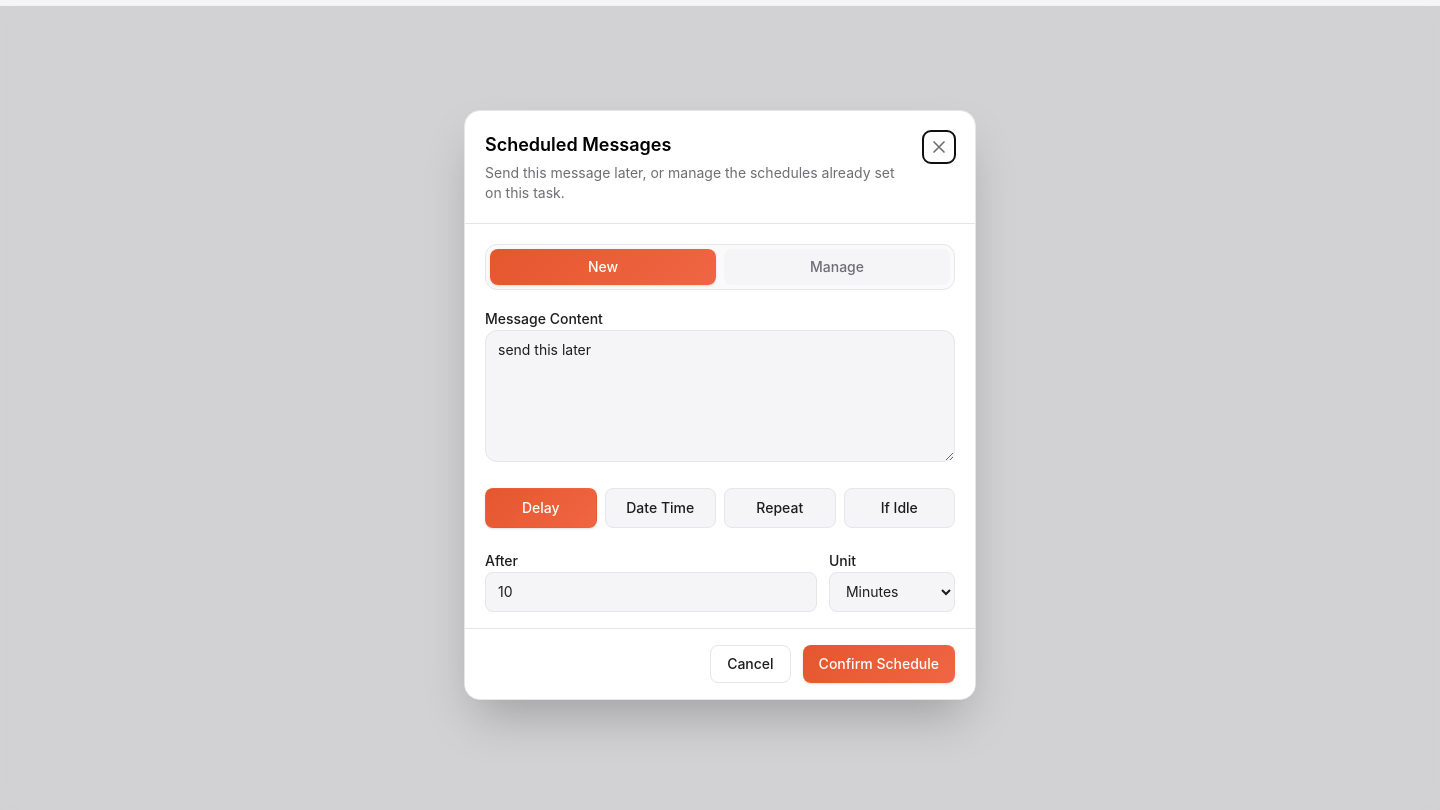
Scenario: ScheduledMessageDialog › keeps an in-flight row listed and surfaces the conflict when removal is refused
Click the button "Manage" at (837, 267), box [724,249,950,285]
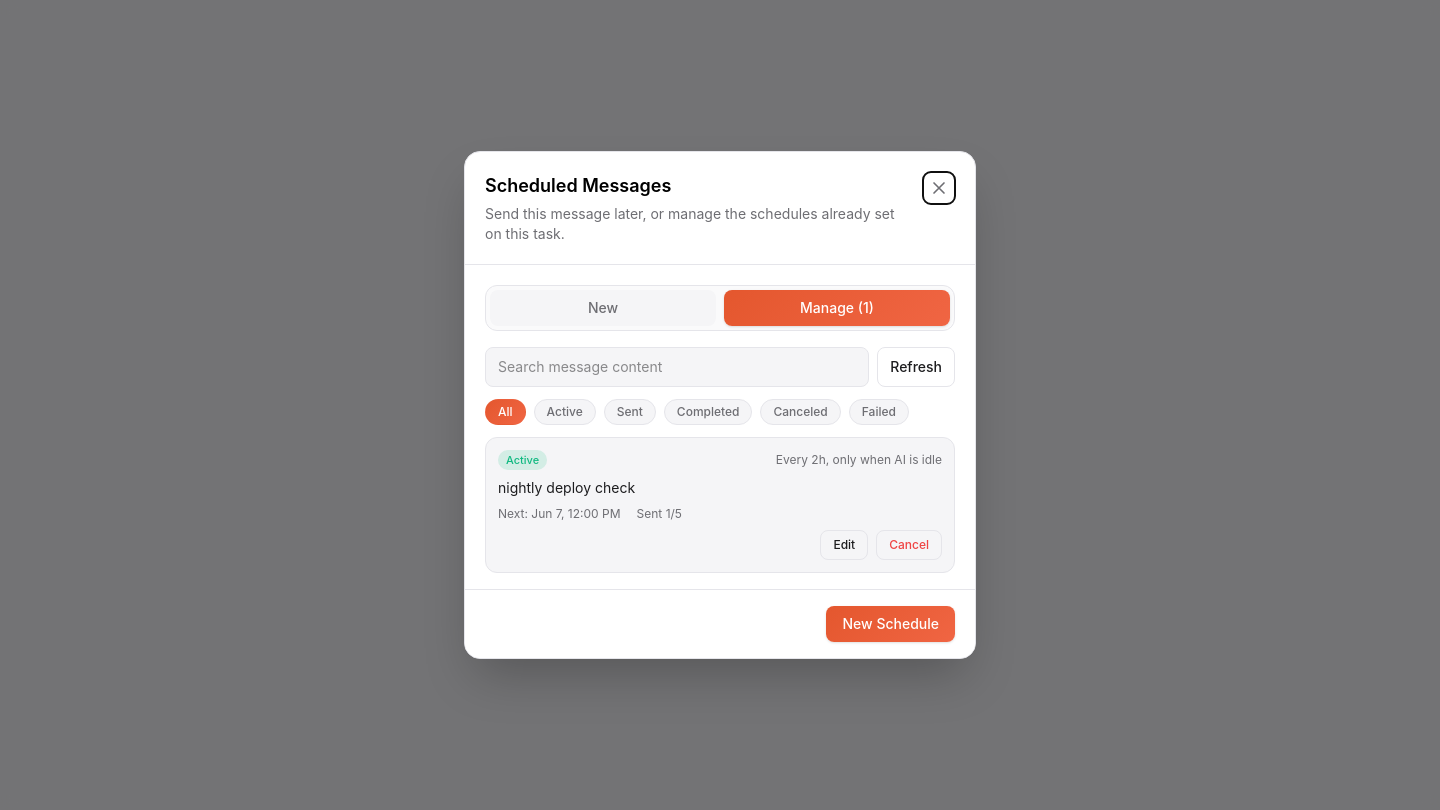
Click the button "Cancel" at (909, 545), box [876,530,942,560]
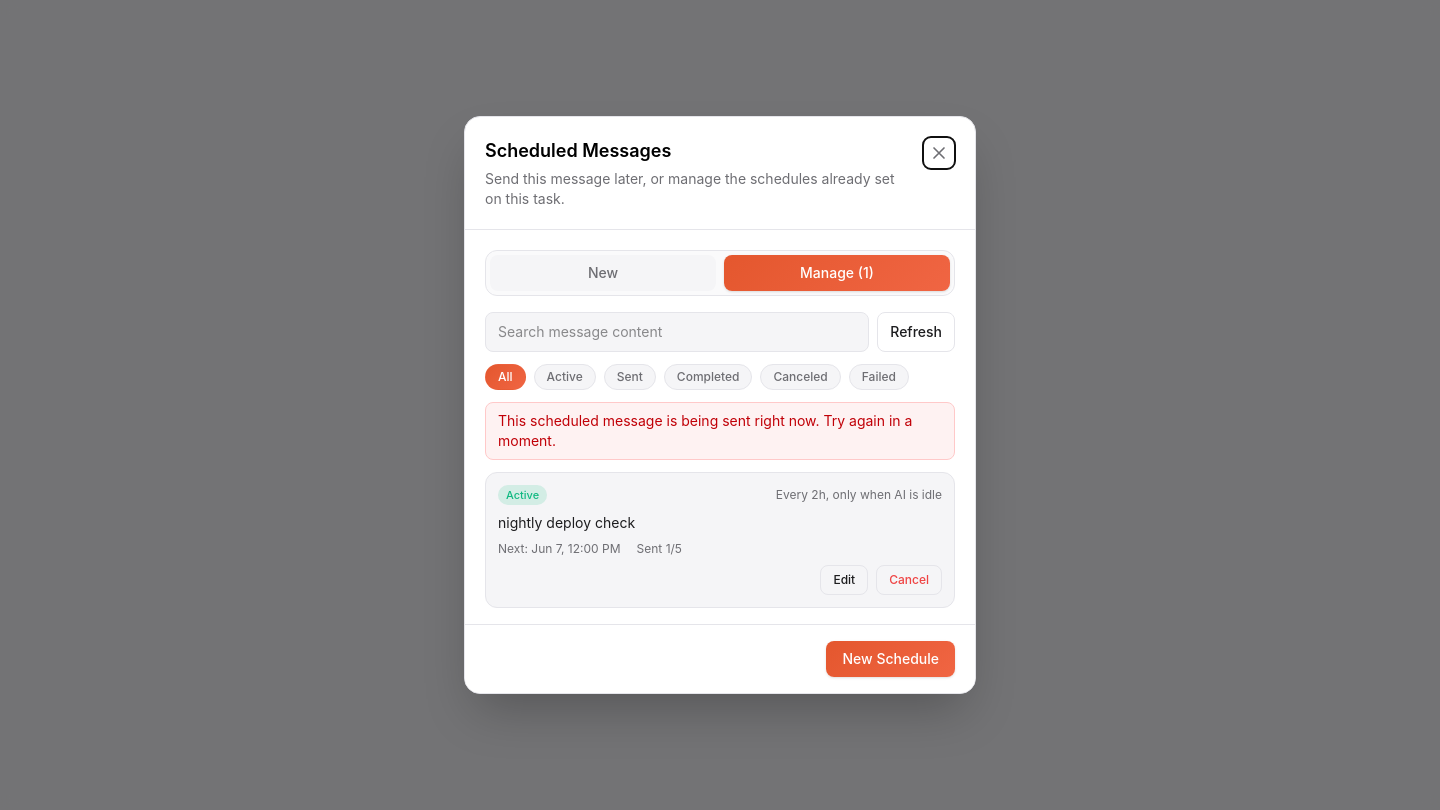
Expected: the number of elements with test id "scheduled-message-row" is 1, [485,472,955,608]
Expected: the text "This scheduled message is being sent right now. Try again in a moment." is shown, [485,402,955,460]
